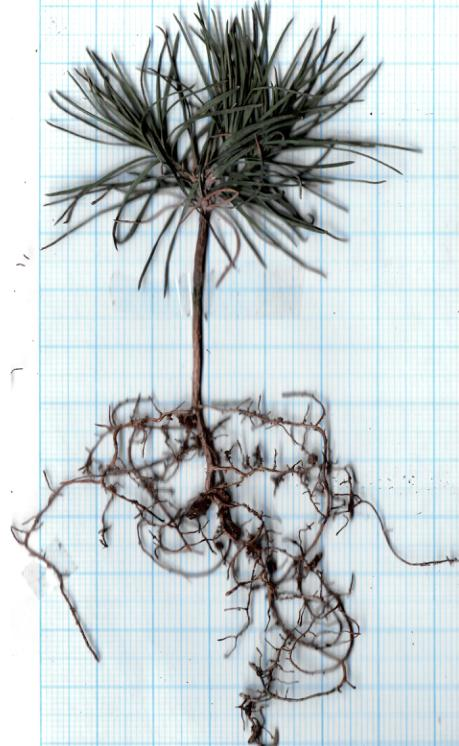flower: (31, 0, 430, 297)
root: (8, 389, 459, 746)
stem: (176, 216, 223, 398)
